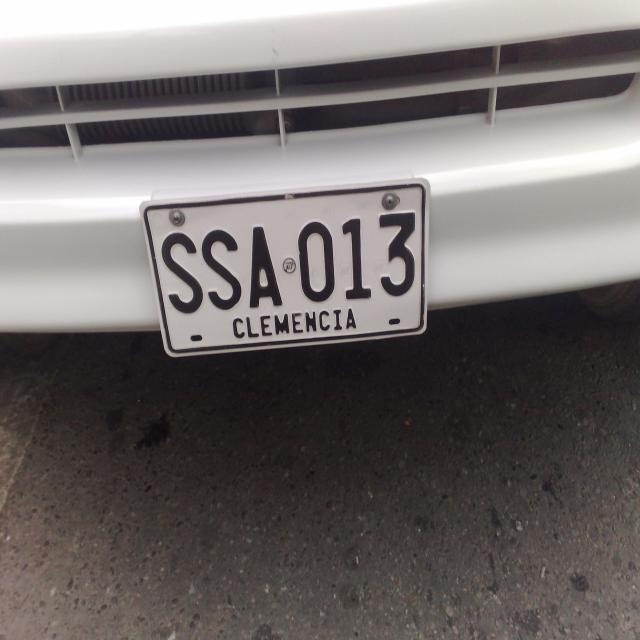placa: (136, 171, 432, 361)
